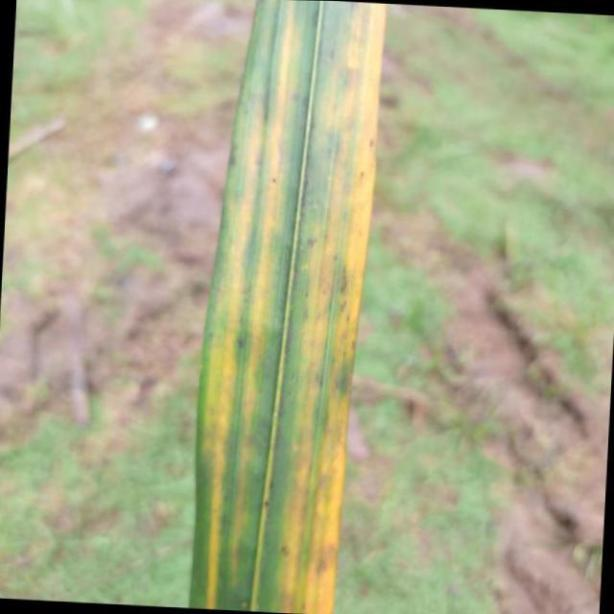Megnesium: (187, 0, 385, 614)
